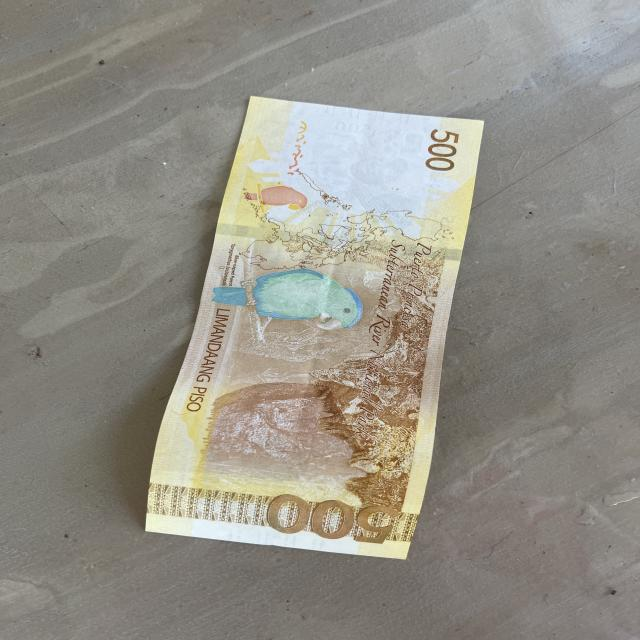500_big_parrot: (210, 266, 364, 344)
500_parrot_watermark: (242, 180, 306, 218)
value_watermark: (332, 117, 371, 135)
watermark: (296, 116, 424, 192)
